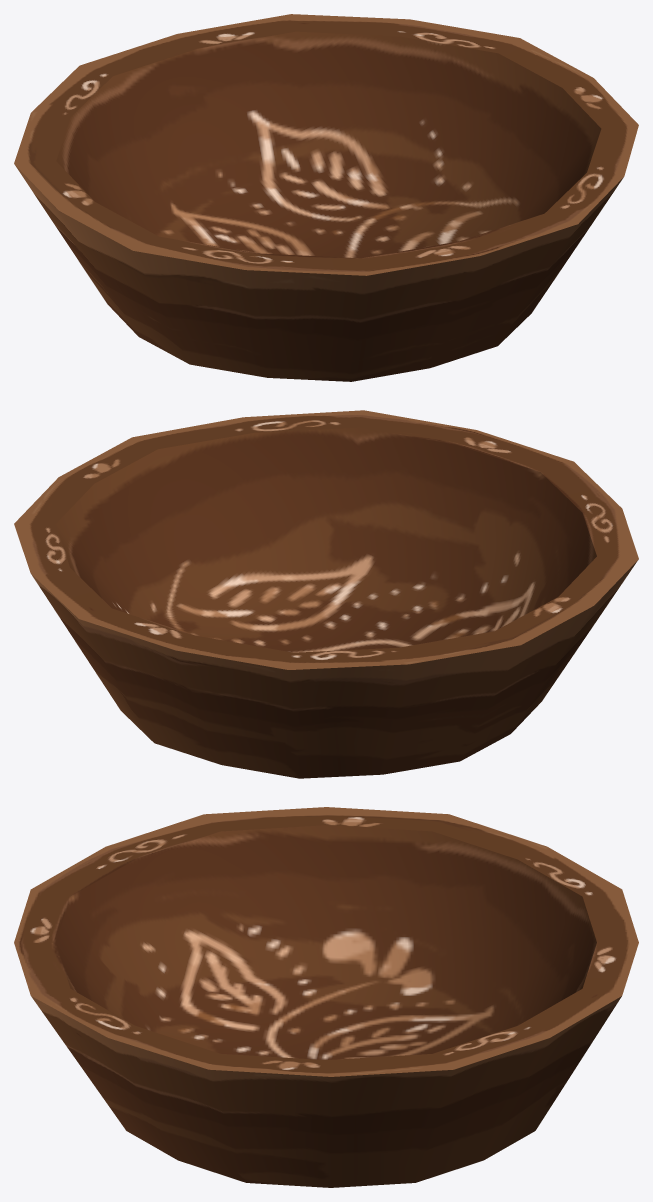
Rendered from SM_PROP_plate_dungeon_04.fbx.
The picture shows the model from 3 angles, top to bottom: view 1: azimuth 30°, elevation 25°; view 2: azimuth 150°, elevation 25°; view 3: azimuth 270°, elevation 25°; orthographic projection. The views are drawn at different scales.
Parts seen in each view (by area): view 1: SM_PROP_plate_dungeon_04; view 2: SM_PROP_plate_dungeon_04; view 3: SM_PROP_plate_dungeon_04.
Boxes of the visible parts, bbox=[...] form: SM_PROP_plate_dungeon_04: bbox=[14, 14, 638, 381]; SM_PROP_plate_dungeon_04: bbox=[14, 410, 638, 778]; SM_PROP_plate_dungeon_04: bbox=[14, 807, 638, 1187].
Bounding box in the file's own units: 20.68 × 5.44 × 20.23.
